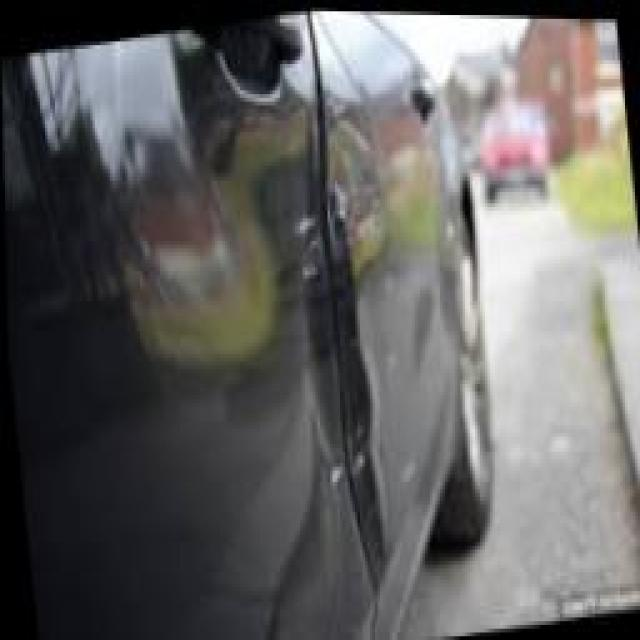Door: (287, 206, 369, 597), (324, 171, 395, 595)
